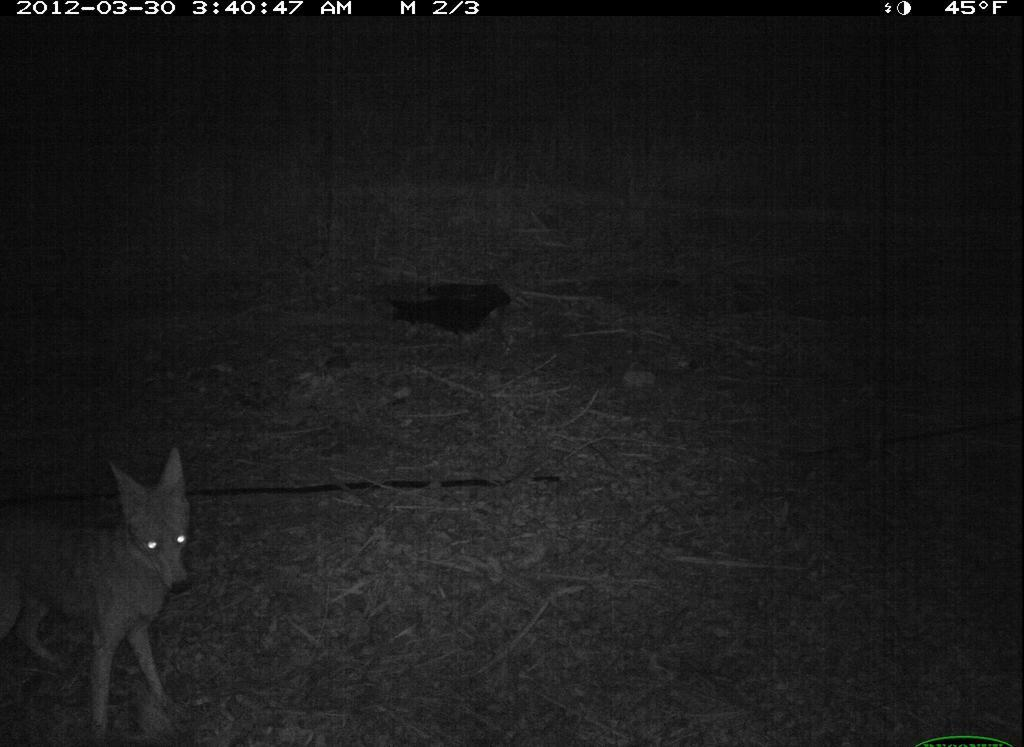coyote: (6, 442, 209, 733)
